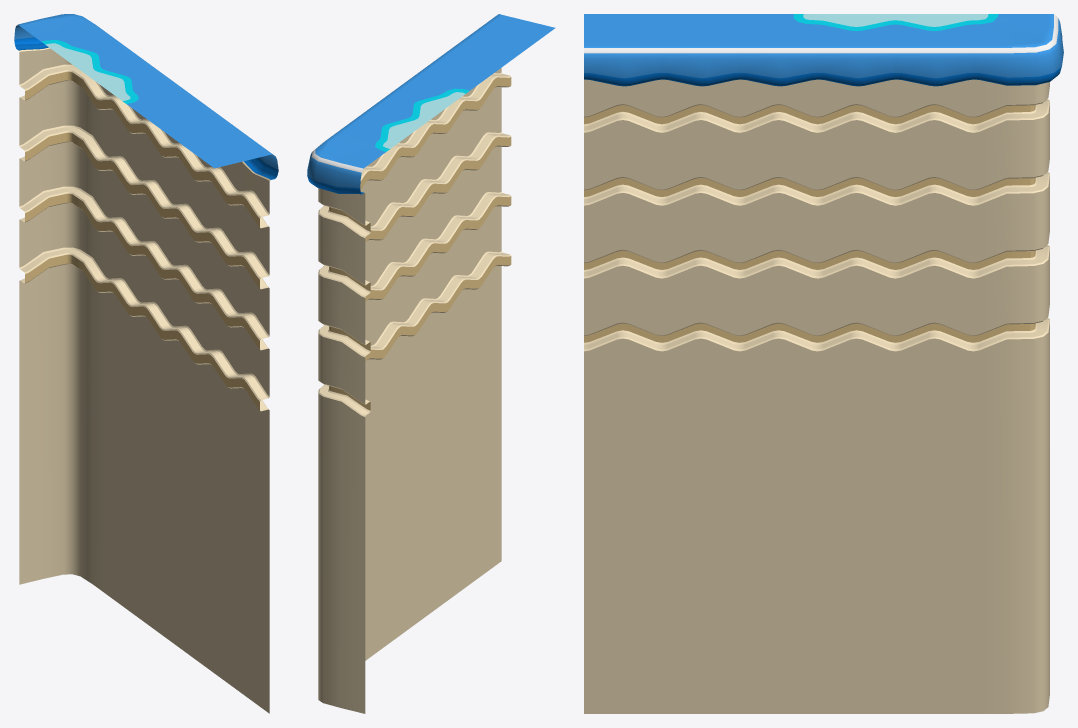
File: V2_Ground_Left.fbx
3 views of the same model, side by side, from view 1: azimuth 30°, elevation 25°; view 2: azimuth 150°, elevation 25°; view 3: azimuth 270°, elevation 25° (orthographic). The views are drawn at different scales.
Parts seen in each view (by area): view 1: V2_Ground_Left; view 2: V2_Ground_Left; view 3: V2_Ground_Left.
Part boxes in pixels (x1,y1,x2,y2): V2_Ground_Left: (14,14,278,713); V2_Ground_Left: (307,14,555,713); V2_Ground_Left: (584,14,1063,713).
Bounding box in the file's own units: 233 × 1892 × 1233.
